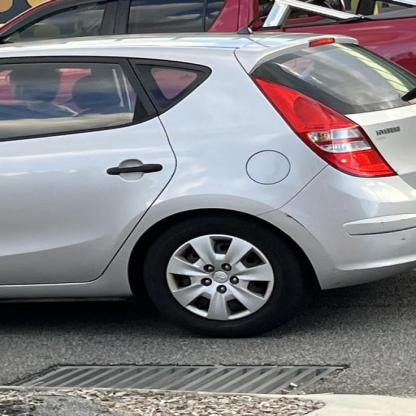Tire: (140, 218, 304, 339)
